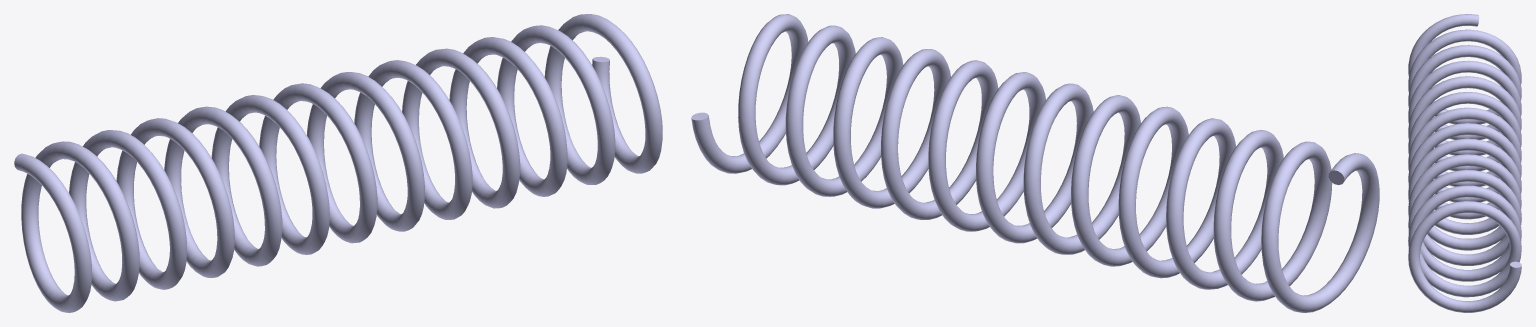
File: spring.fbx
3 renders of one model, left to right at view 1: azimuth 30°, elevation 25°; view 2: azimuth 150°, elevation 25°; view 3: azimuth 270°, elevation 25°, orthographic. The views are drawn at different scales.
Visible parts, largest first — view 1: Helix01; view 2: Helix01; view 3: Helix01.
Part boxes in pixels (x1,y1,x2,y2): Helix01: (14,14,662,312); Helix01: (691,14,1379,312); Helix01: (1408,14,1521,312).
Size of the model in its own units: 10000 by 2354 by 2354.
